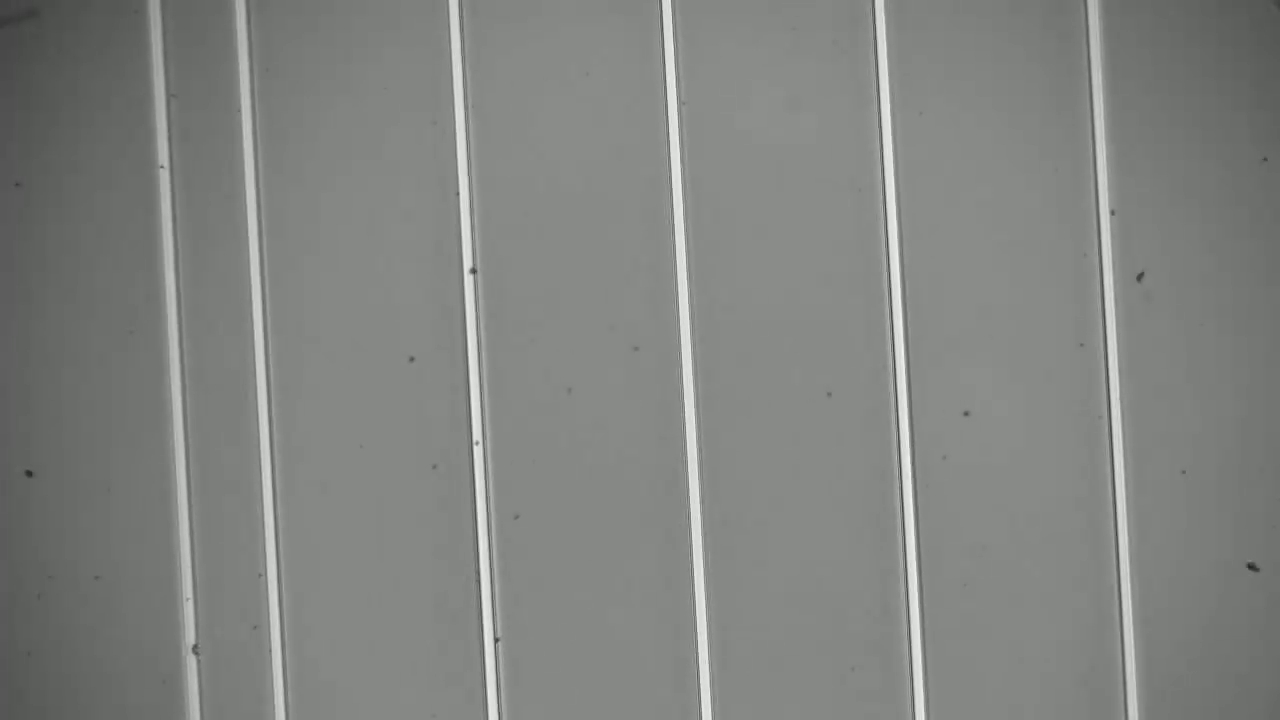stains_enbedded: (190, 638, 208, 662)
